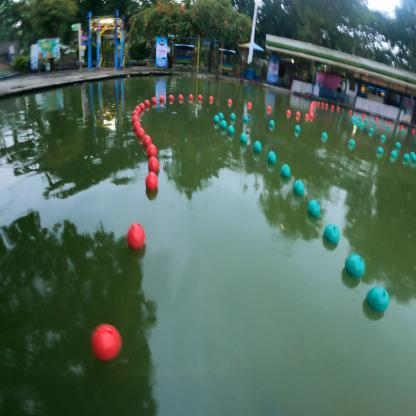green_buoy: (366, 284, 390, 314), (344, 252, 366, 279), (323, 223, 341, 247), (306, 198, 321, 219), (293, 180, 305, 196), (280, 164, 291, 179), (267, 150, 277, 165), (254, 140, 262, 154), (240, 132, 248, 144), (228, 124, 235, 136), (220, 120, 228, 130), (390, 150, 398, 159), (349, 138, 356, 148), (377, 146, 384, 156), (403, 152, 410, 162), (242, 114, 249, 123), (321, 132, 328, 140), (409, 151, 416, 159), (218, 112, 224, 121), (230, 112, 236, 121), (269, 119, 275, 128), (294, 124, 300, 133), (395, 141, 401, 149), (214, 115, 219, 124), (368, 127, 374, 134), (381, 134, 386, 142), (411, 154, 415, 163), (356, 120, 361, 126), (360, 122, 364, 128), (401, 128, 405, 134), (353, 118, 356, 123), (358, 116, 361, 120), (351, 116, 354, 120), (364, 118, 368, 121), (372, 120, 375, 124), (387, 124, 390, 128), (353, 115, 355, 119)
red_buoy: (216, 176, 333, 342), (92, 173, 155, 290), (89, 324, 129, 365), (90, 321, 123, 363), (127, 221, 145, 250), (145, 171, 159, 190), (148, 156, 160, 173), (99, 328, 109, 346), (147, 142, 157, 158), (142, 134, 152, 148), (137, 127, 146, 139), (88, 323, 97, 333), (133, 121, 142, 130), (134, 105, 142, 114), (132, 115, 140, 124), (132, 109, 139, 118), (151, 96, 157, 104), (144, 99, 150, 107), (140, 102, 145, 110), (178, 94, 184, 100), (208, 96, 214, 102), (169, 94, 174, 101), (247, 101, 252, 108), (83, 327, 100, 329), (267, 105, 272, 111), (286, 110, 292, 115), (309, 112, 314, 118), (160, 95, 164, 102), (228, 98, 232, 105), (189, 94, 193, 100), (198, 94, 202, 100), (296, 111, 300, 117), (313, 101, 317, 106), (305, 114, 309, 119), (325, 103, 329, 107), (336, 106, 340, 110), (309, 109, 313, 113), (400, 125, 404, 129), (412, 128, 416, 132), (310, 105, 313, 110), (317, 102, 320, 106), (311, 102, 314, 106), (321, 102, 324, 106), (331, 104, 334, 108), (349, 110, 353, 113), (362, 113, 365, 117), (94, 327, 105, 328), (375, 117, 378, 120), (388, 121, 391, 124)
